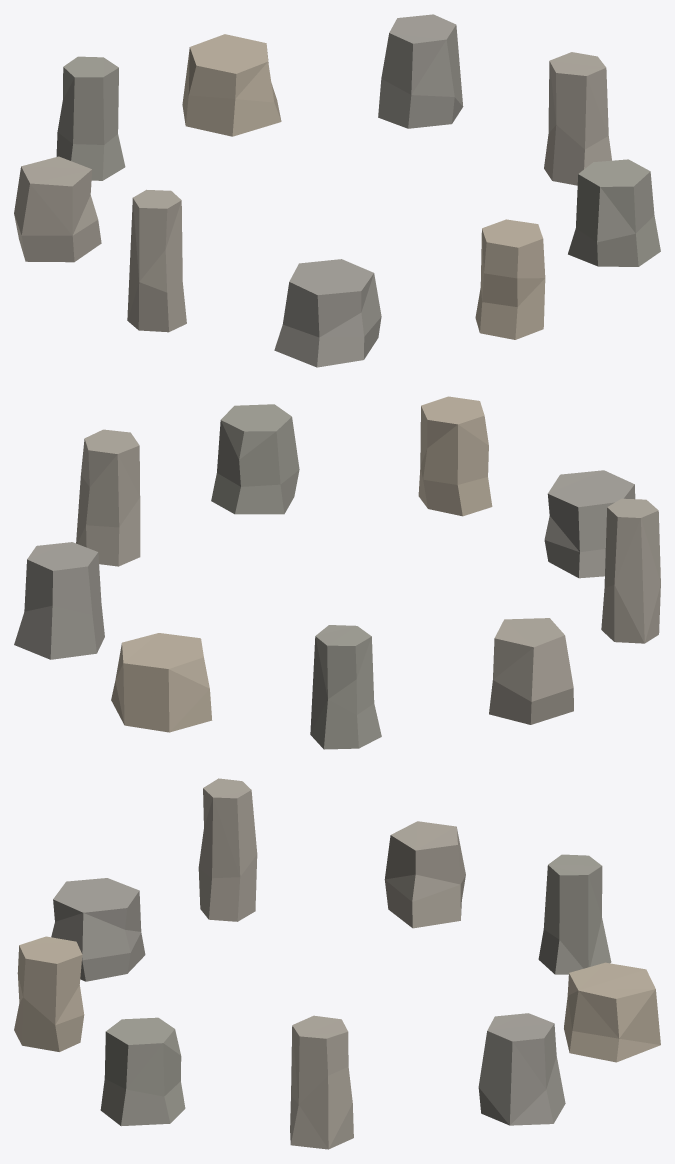
File: 45-Arte3D_anillo_piedras_ritual.glb
3 renders of one model, top to bottom at view 1: azimuth 30°, elevation 25°; view 2: azimuth 150°, elevation 25°; view 3: azimuth 270°, elevation 25°, orthographic. The views are drawn at different scales.
Parts seen in each view (by area): view 1: SM_Anillo_M_Piedra_Anillo_1, SM_Anillo_M_Piedra_Anillo_2, SM_Anillo_M_Piedra_Anillo_3, SM_Anillo_M_Piedra_Anillo_0, SM_Anillo_M_Piedra_Anillo_4; view 2: SM_Anillo_M_Piedra_Anillo_2, SM_Anillo_M_Piedra_Anillo_3, SM_Anillo_M_Piedra_Anillo_0, SM_Anillo_M_Piedra_Anillo_1, SM_Anillo_M_Piedra_Anillo_4; view 3: SM_Anillo_M_Piedra_Anillo_1, SM_Anillo_M_Piedra_Anillo_0, SM_Anillo_M_Piedra_Anillo_2, SM_Anillo_M_Piedra_Anillo_3, SM_Anillo_M_Piedra_Anillo_4.
Part boxes in pixels (box(x1,y1,x2,y2)): SM_Anillo_M_Piedra_Anillo_1: box(274, 14, 463, 367); SM_Anillo_M_Piedra_Anillo_2: box(182, 34, 545, 339); SM_Anillo_M_Piedra_Anillo_3: box(56, 56, 660, 266); SM_Anillo_M_Piedra_Anillo_0: box(127, 52, 611, 332); SM_Anillo_M_Piedra_Anillo_4: box(14, 156, 101, 262); SM_Anillo_M_Piedra_Anillo_2: box(111, 396, 492, 732); SM_Anillo_M_Piedra_Anillo_3: box(211, 404, 381, 749); SM_Anillo_M_Piedra_Anillo_0: box(76, 429, 660, 643); SM_Anillo_M_Piedra_Anillo_1: box(14, 470, 635, 659); SM_Anillo_M_Piedra_Anillo_4: box(489, 618, 573, 724); SM_Anillo_M_Piedra_Anillo_1: box(51, 878, 565, 1125); SM_Anillo_M_Piedra_Anillo_0: box(198, 778, 353, 1149); SM_Anillo_M_Piedra_Anillo_2: box(14, 936, 660, 1062); SM_Anillo_M_Piedra_Anillo_3: box(100, 854, 611, 1126); SM_Anillo_M_Piedra_Anillo_4: box(384, 821, 465, 928).
Bounding box in the file's own units: 2.84 × 0.6201 × 3.01.
